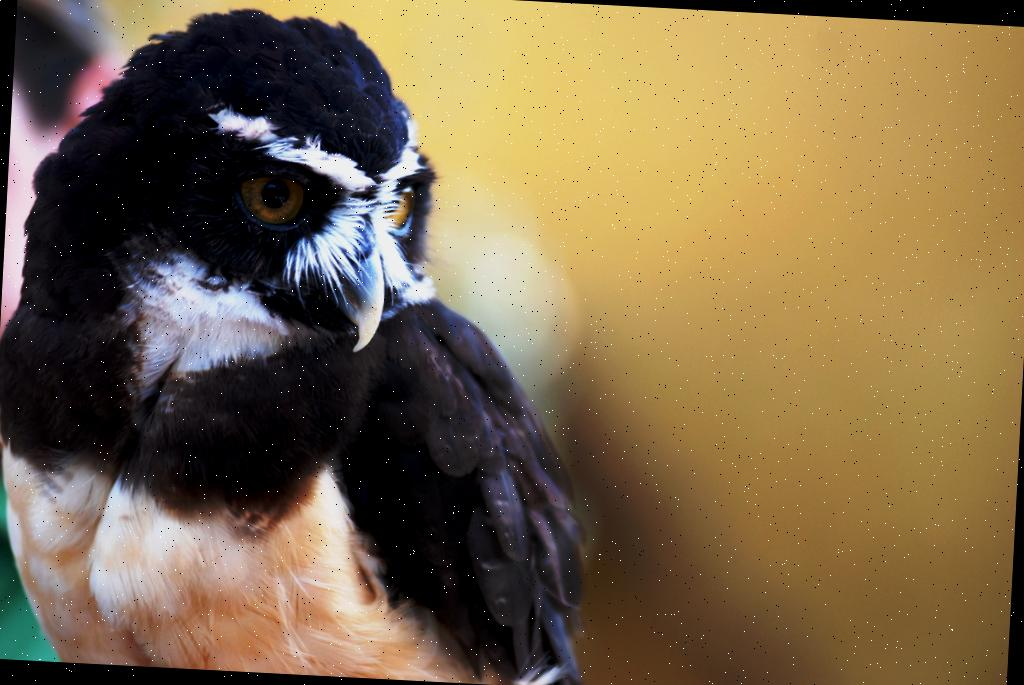Owl: (0, 0, 619, 685)
